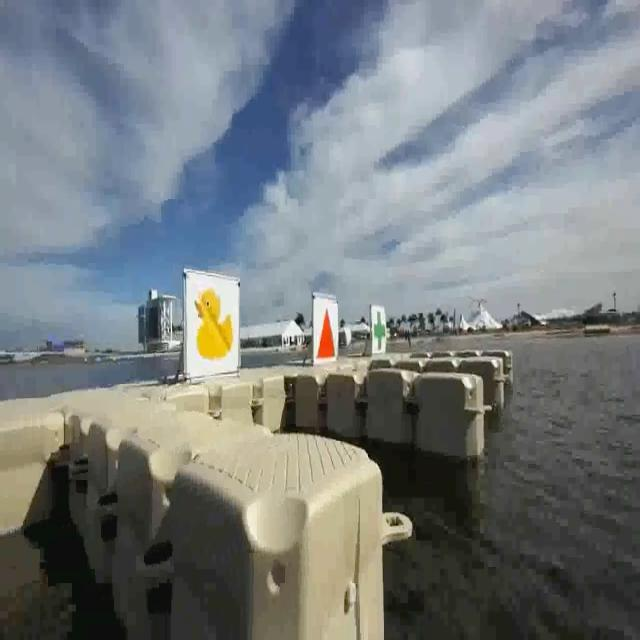blue-cross: (372, 301, 387, 353)
red-dot: (313, 300, 337, 364)
yellow-duck: (194, 284, 234, 360)
